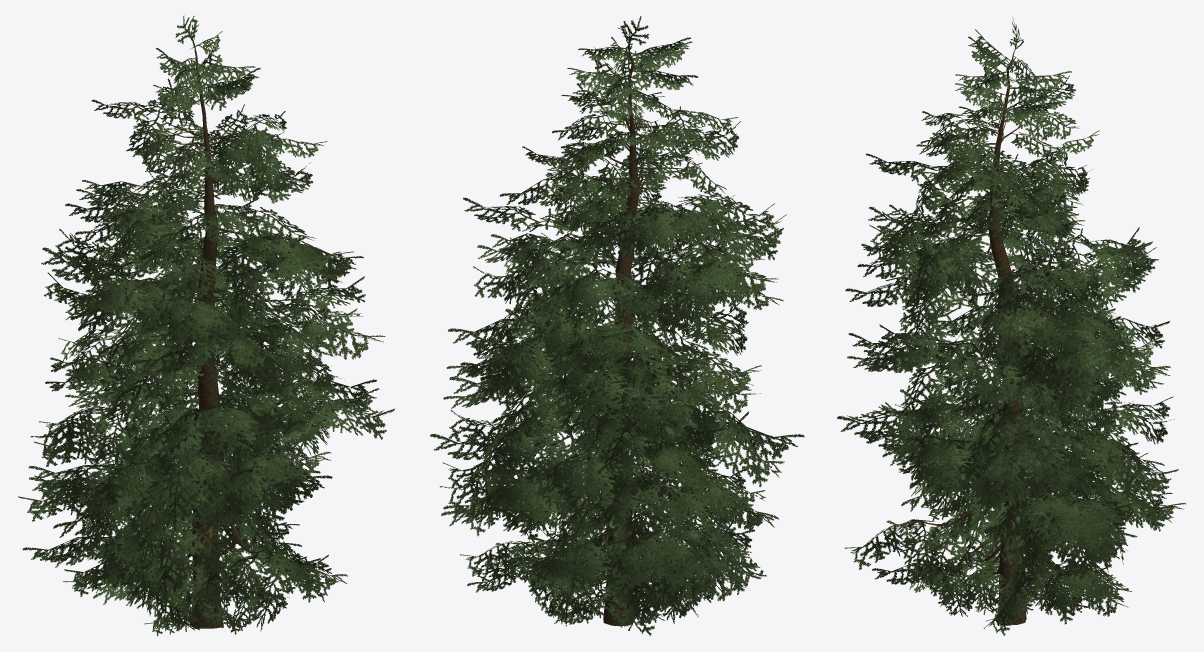
Rendered from koknar.glb.
3 views of the same model, side by side, from view 1: azimuth 30°, elevation 25°; view 2: azimuth 150°, elevation 25°; view 3: azimuth 270°, elevation 25° (orthographic). The views are drawn at different scales.
Visible parts, largest first — view 1: koknar; view 2: koknar; view 3: koknar.
Boxes of the visible parts, box(x1,y1,x2,y2) form: koknar: box(18, 15, 394, 636); koknar: box(430, 16, 804, 635); koknar: box(837, 18, 1185, 635).
Size of the model in its own units: 5.08 by 9 by 4.87.
Materials: 2 (2 with a texture image).
